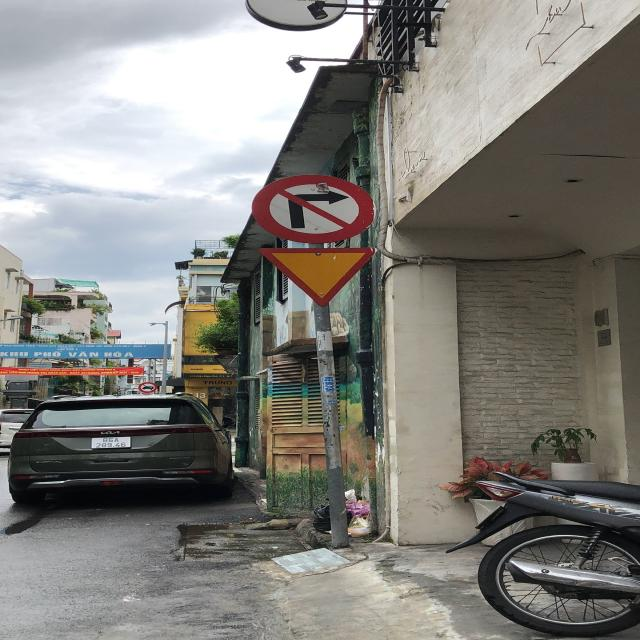Bien bao cam re phai: (241, 169, 377, 246)
Bien bao giao nhau voi duong uu tien: (256, 246, 386, 304)
